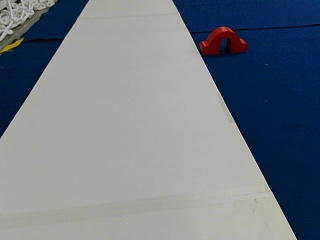bridge: (201, 26, 246, 53)
